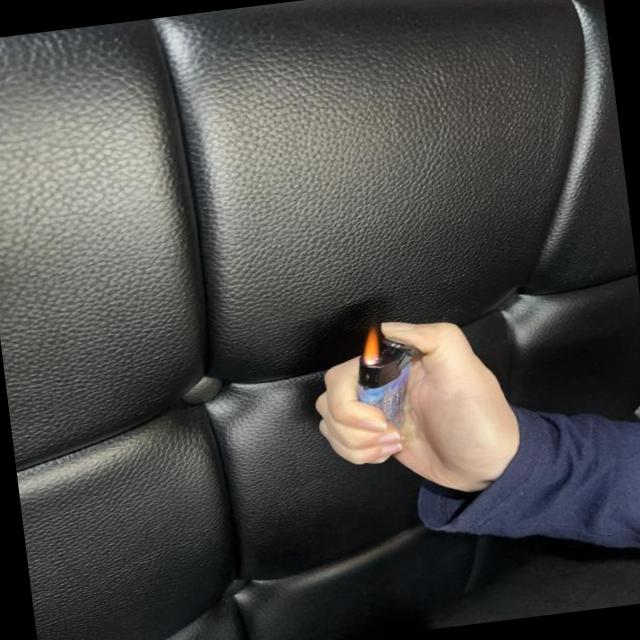Fire: (358, 324, 382, 366)
